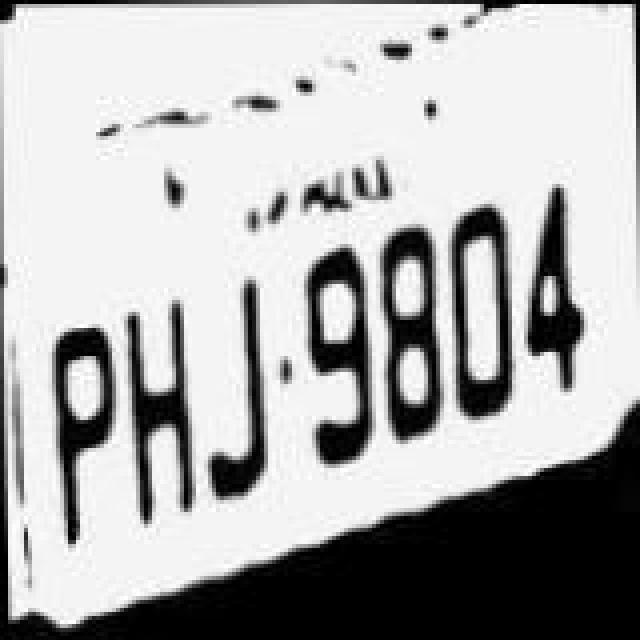4: (522, 160, 602, 424)
8: (376, 208, 452, 480)
9: (300, 230, 376, 510)
H: (120, 282, 200, 554)
J: (202, 256, 278, 520)
O: (448, 158, 524, 434)
P: (42, 298, 126, 566)
